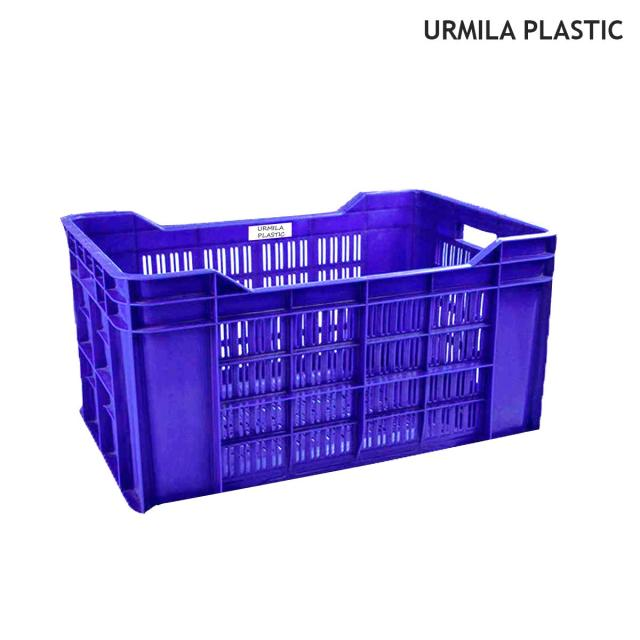basket: (48, 134, 591, 520)
